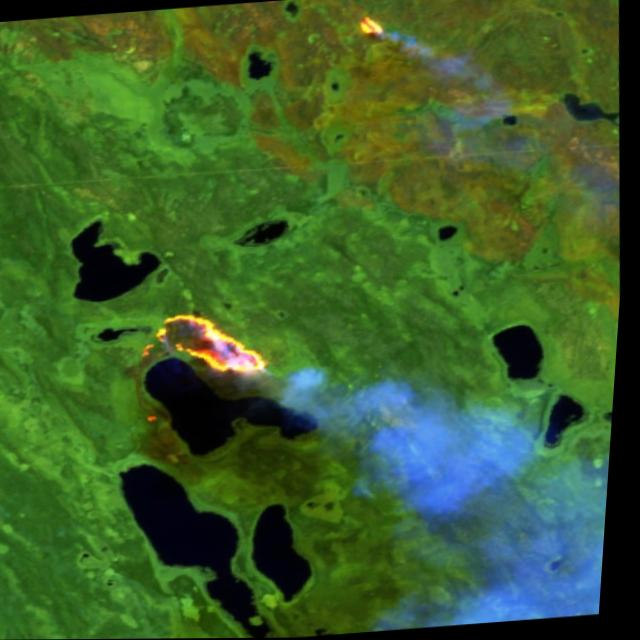fire: (132, 302, 290, 391), (353, 12, 393, 40)
